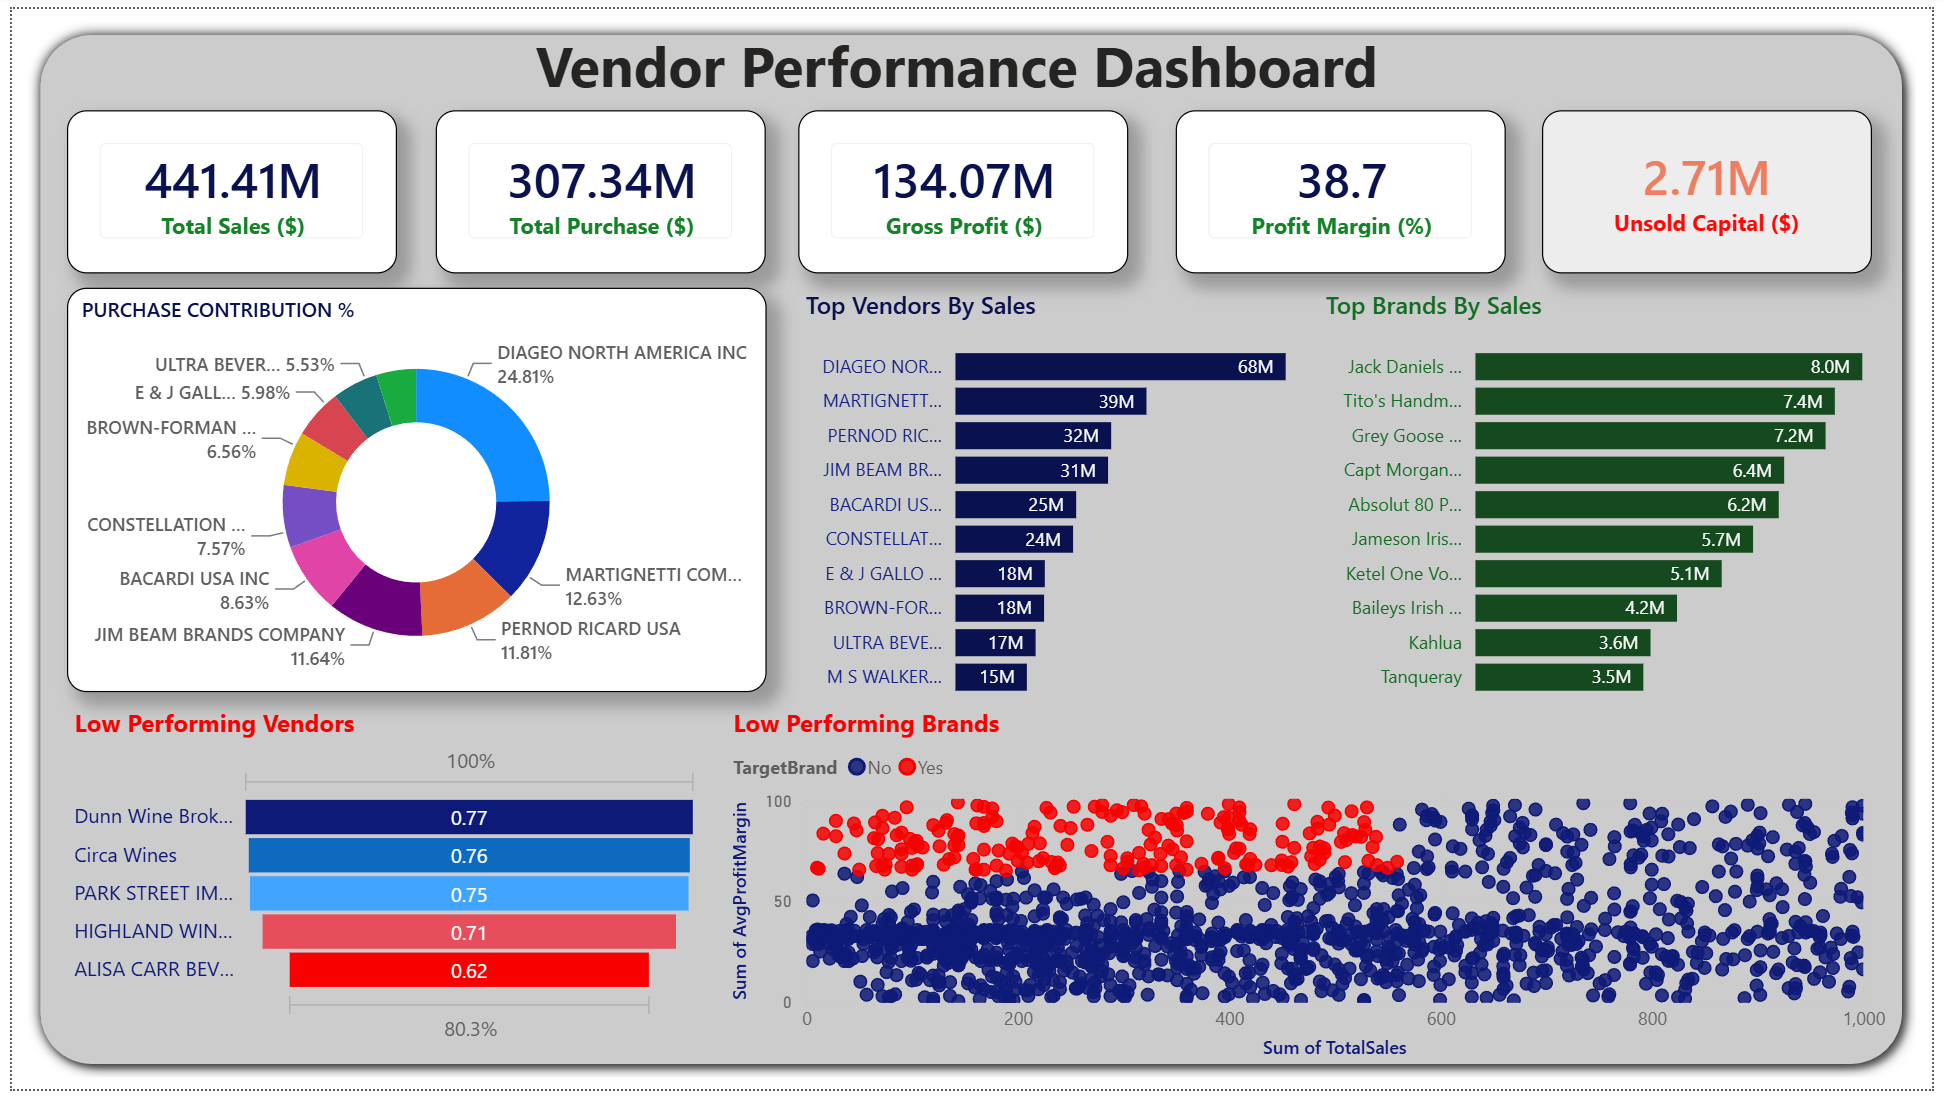

What the dashboard file says about the page in this screenshot:
{"tool":"powerbi","page":{"name":"Page 1","canvas":[1280,720],"ordinal":0},"visuals":[{"type":"shape","box":[10,8,1259,704],"z":0},{"type":"textbox","box":[344.1,7.8,591.7,61.5],"z":1000},{"type":"cardVisual","fields":{"Data":["Sum(vendor_sales_summary.TotalPurchaseDollars)"]},"box":[282.6,67.2,220.3,109],"z":4000},{"type":"cardVisual","fields":{"Data":["Sum(vendor_sales_summary.TotalSalesDollars)"]},"box":[36.6,67.2,220.3,109],"z":4001},{"type":"cardVisual","fields":{"Data":["Sum(vendor_sales_summary.GrossProfit)"]},"box":[524,67.2,220.3,109],"z":4002},{"type":"cardVisual","fields":{"Data":["Avg(vendor_sales_summary.ProfitMargin)"]},"box":[775.4,67.2,220.3,109],"z":4003},{"type":"cardVisual","fields":{"Data":["Sum(vendor_sales_summary.UnsoldCapital)"]},"box":[1019.9,67.2,220.3,109],"z":4004},{"type":"donutChart","title":"PURCHASE CONTRIBUTION %","fields":{"Y":["Sum(PurchaseContribution.PurchaseContributon%)"],"Category":["PurchaseContribution.VendorName"]},"box":[36.6,186.1,466.4,269.4],"z":4005},{"type":"barChart","title":"Top Vendors By Sales","fields":{"Category":["vendor_sales_summary.VendorName"],"Y":["Sum(vendor_sales_summary.TotalSalesDollars)"]},"box":[524,186.1,369,283.4],"z":4006},{"type":"barChart","title":"Top Brands By Sales","fields":{"Y":["Sum(vendor_sales_summary.TotalSalesDollars)"],"Category":["vendor_sales_summary.Description"]},"box":[871.2,186.1,369,283.4],"z":4007},{"type":"funnel","title":"Low Performing Vendors","fields":{"Category":["LowTurnoverVendors.VendorName"],"Y":["Avg(LowTurnoverVendors.AvgStockTurnOver)"]},"box":[36.6,464,427.4,229.7],"z":4008},{"type":"scatterChart","title":"Low Performing Brands","fields":{"Category":["BrandPerformance.Description"],"X":["Sum(BrandPerformance.TotalSales)"],"Y":["Sum(BrandPerformance.AvgProfitMargin)"],"Series":["BrandPerformance.TargetBrand"]},"box":[475.7,464,778.5,240.6],"z":4009}]}

Visuals, with their boxes in screenshot pixels (x1, y1, x2, y2), scaled from the page's 1280x720 canvas onto the 1945x1097 screenshot:
shape: (15,12,1928,1085)
textbox: (523,12,1422,106)
cardVisual - Sum(vendor_sales_summary.TotalPurchaseDollars): (429,102,764,268)
cardVisual - Sum(vendor_sales_summary.TotalSalesDollars): (56,102,390,268)
cardVisual - Sum(vendor_sales_summary.GrossProfit): (796,102,1131,268)
cardVisual - Avg(vendor_sales_summary.ProfitMargin): (1178,102,1513,268)
cardVisual - Sum(vendor_sales_summary.UnsoldCapital): (1550,102,1885,268)
"PURCHASE CONTRIBUTION %" donutChart: (56,284,764,694)
"Top Vendors By Sales" barChart: (796,284,1357,715)
"Top Brands By Sales" barChart: (1324,284,1885,715)
"Low Performing Vendors" funnel: (56,707,705,1057)
"Low Performing Brands" scatterChart: (723,707,1906,1074)
